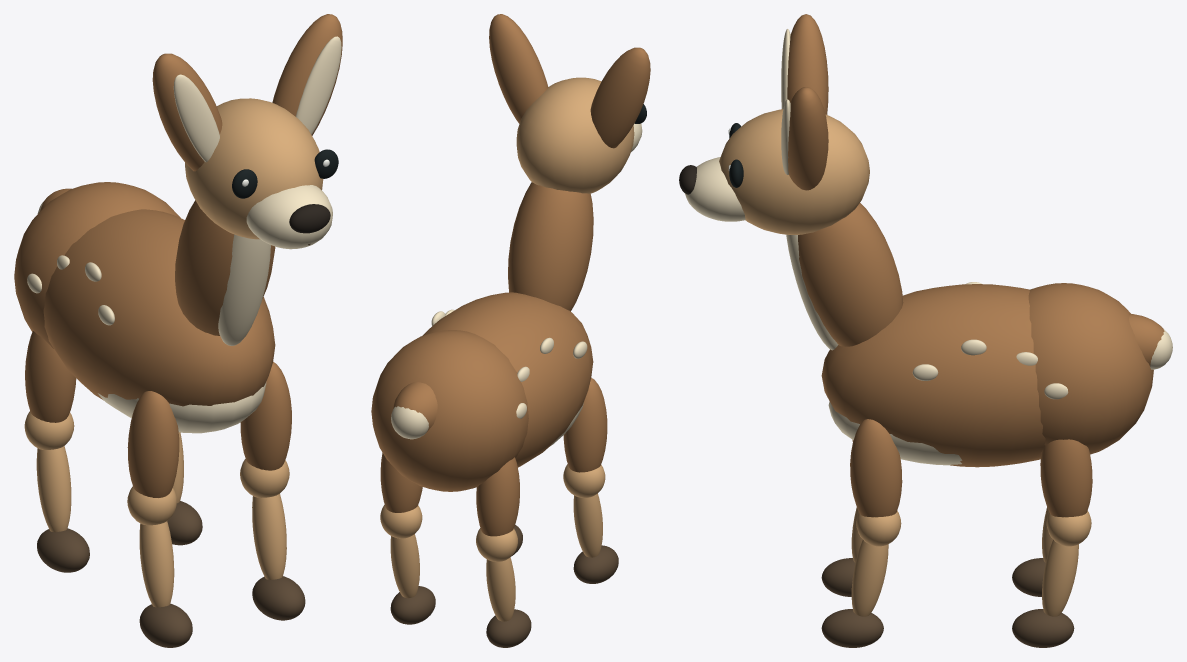
The model's file is hert_staand.glb.
3 views of the same model, side by side, from view 1: azimuth 30°, elevation 25°; view 2: azimuth 150°, elevation 25°; view 3: azimuth 270°, elevation 25° (orthographic). The views are drawn at different scales.
Visible parts, largest first — view 1: Fawn_body, Fawn_head, Fawn_haunch, Fawn_neck, Deer_upper_leg, Cream_throat, Deer_upper_leg.002, Deer_upper_leg.001, Fawn_muzzle, Long_ear, Long_ear.001, Fawn_belly (+15 smaller); view 2: Fawn_haunch, Fawn_body, Fawn_head, Fawn_neck, Long_ear, Long_ear.001, Deer_upper_leg, Deer_upper_leg.001, Deer_lower_leg.001, Deer_lower_leg.003, Deer_lower_leg, Deer_upper_leg.003 (+8 smaller); view 3: Fawn_body, Fawn_haunch, Fawn_head, Fawn_neck, Deer_upper_leg.002, Deer_upper_leg.003, Long_ear.001, Long_ear, Fawn_muzzle, Deer_lower_leg.002, Deer_lower_leg.003, Deer_hoof.003 (+8 smaller).
Boxes of the visible parts, x1,y1,x2,y2 form: Fawn_body: (43, 209, 275, 406); Fawn_head: (185, 98, 323, 239); Fawn_haunch: (14, 182, 180, 348); Fawn_neck: (175, 200, 275, 335); Deer_upper_leg: (127, 391, 179, 497); Cream_throat: (218, 234, 270, 345); Deer_upper_leg.002: (240, 362, 291, 470); Deer_upper_leg.001: (25, 331, 76, 422); Fawn_muzzle: (246, 185, 332, 249); Long_ear: (152, 53, 222, 171); Long_ear.001: (272, 14, 342, 135); Fawn_belly: (98, 382, 266, 433); Fawn_haunch: (371, 330, 528, 491); Fawn_body: (422, 292, 593, 467); Fawn_head: (516, 77, 634, 193); Fawn_neck: (508, 182, 593, 311); Long_ear: (590, 47, 650, 148); Long_ear.001: (489, 14, 548, 123); Deer_upper_leg: (563, 378, 607, 472); Deer_upper_leg.001: (476, 457, 519, 536); Deer_lower_leg.001: (486, 557, 515, 621); Deer_lower_leg.003: (390, 534, 419, 598); Deer_lower_leg: (573, 493, 602, 557); Deer_upper_leg.003: (380, 452, 422, 512); Fawn_body: (821, 284, 1045, 467); Fawn_haunch: (1028, 283, 1153, 454); Fawn_head: (719, 109, 869, 234); Fawn_neck: (798, 203, 903, 346); Deer_upper_leg.002: (850, 419, 902, 517); Deer_upper_leg.003: (1040, 439, 1092, 517); Long_ear.001: (788, 87, 828, 190); Long_ear: (787, 14, 828, 114); Fawn_muzzle: (685, 157, 745, 221); Deer_lower_leg.002: (851, 540, 888, 616); Deer_lower_leg.003: (1042, 539, 1078, 616); Deer_hoof.003: (1012, 609, 1074, 647).
Size of the model in its own units: 0.5744 by 1.81 by 1.43.
